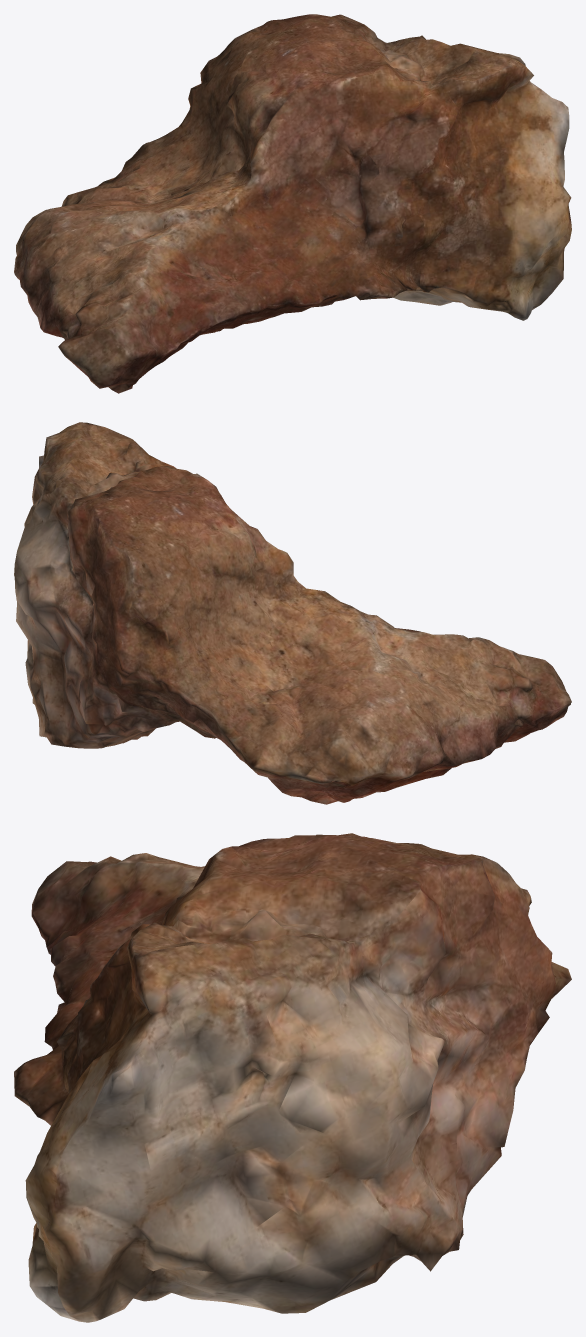
The model's file is stone_01.glb.
3 renders of one model, top to bottom at view 1: azimuth 30°, elevation 25°; view 2: azimuth 150°, elevation 25°; view 3: azimuth 270°, elevation 25°, orthographic. The views are drawn at different scales.
Parts seen in each view (by area): view 1: stone_01; view 2: stone_01; view 3: stone_01.
Boxes of the visible parts, left/top/right/bottom form: stone_01: left=14, top=14, right=571, bottom=393; stone_01: left=14, top=422, right=571, bottom=804; stone_01: left=14, top=833, right=571, bottom=1322.
Bounding box in the file's own units: 0.1469 × 0.0714 × 0.089.
1 material, 1 textured.
